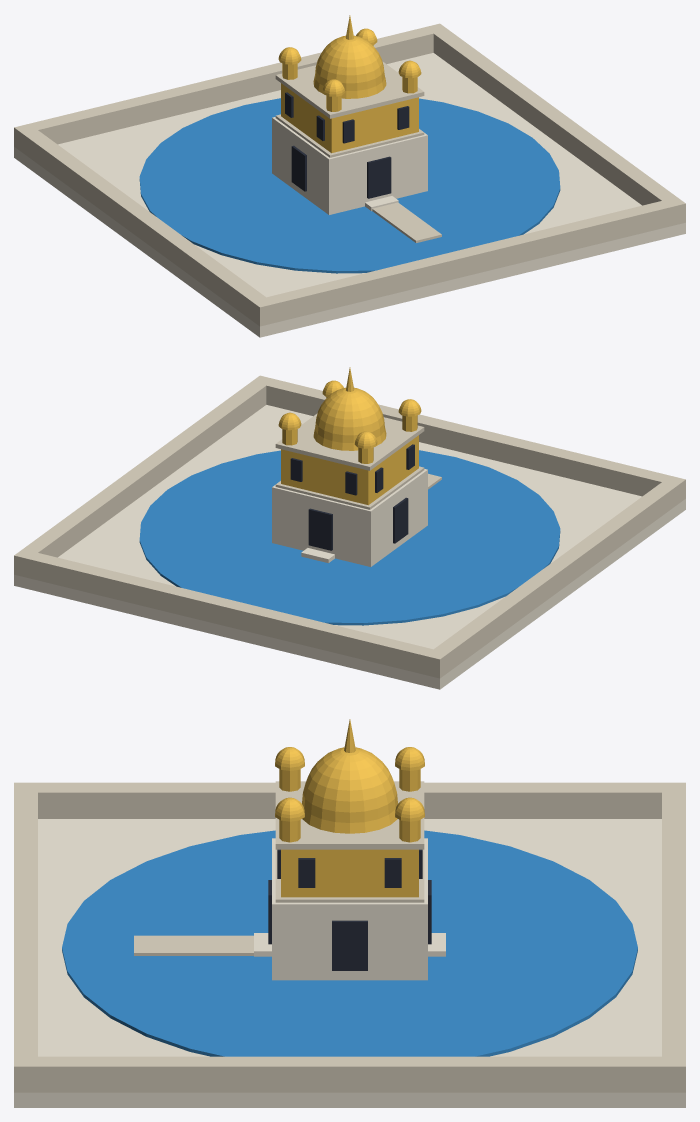
The model's file is golden-temple.glb.
The picture shows the model from 3 angles, top to bottom: view 1: azimuth 30°, elevation 25°; view 2: azimuth 150°, elevation 25°; view 3: azimuth 270°, elevation 25°; orthographic projection. The views are drawn at different scales.
Visible parts, largest first — view 1: golden-temple; view 2: golden-temple; view 3: golden-temple.
Boxes of the visible parts, bbox=[...] form: golden-temple: bbox=[14, 15, 685, 337]; golden-temple: bbox=[14, 367, 685, 689]; golden-temple: bbox=[14, 719, 685, 1107].
Size of the model in its own units: 9.82 by 4 by 9.82.
